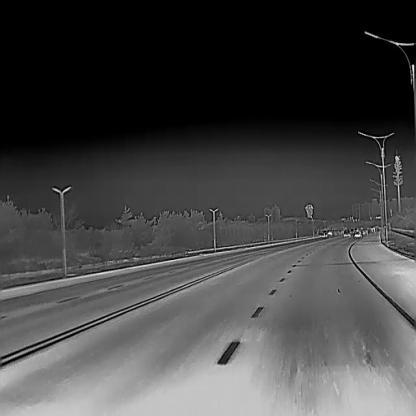car: (353, 228, 362, 238), (342, 229, 350, 237)
